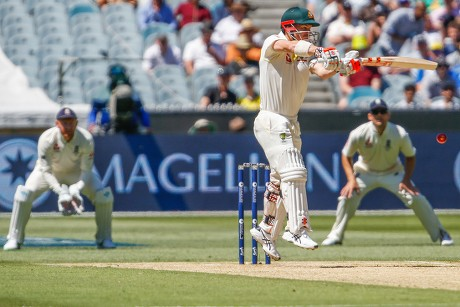Cutshot: (224, 2, 443, 307)
